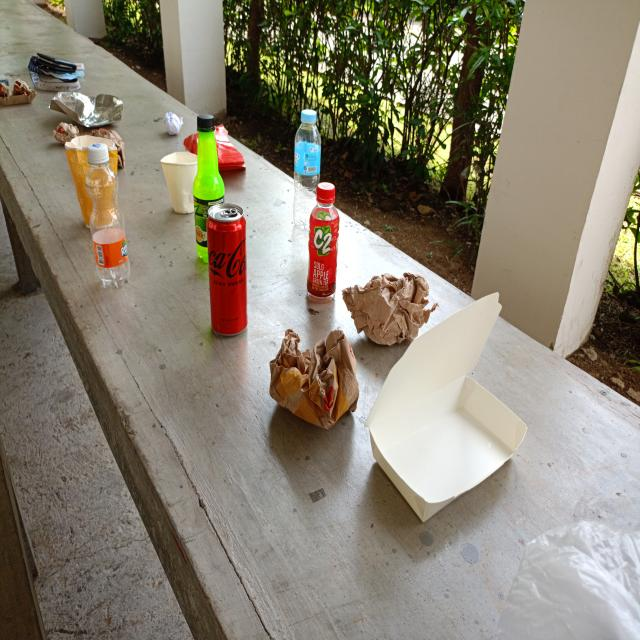Anorganik: (83, 141, 133, 294), (206, 202, 249, 342), (193, 113, 226, 267), (305, 180, 340, 307), (293, 106, 323, 225)
Organik: (367, 291, 530, 523), (267, 327, 363, 431), (342, 270, 439, 352), (187, 116, 250, 174), (48, 90, 126, 128), (160, 150, 200, 216), (0, 75, 38, 108), (162, 109, 186, 138)
